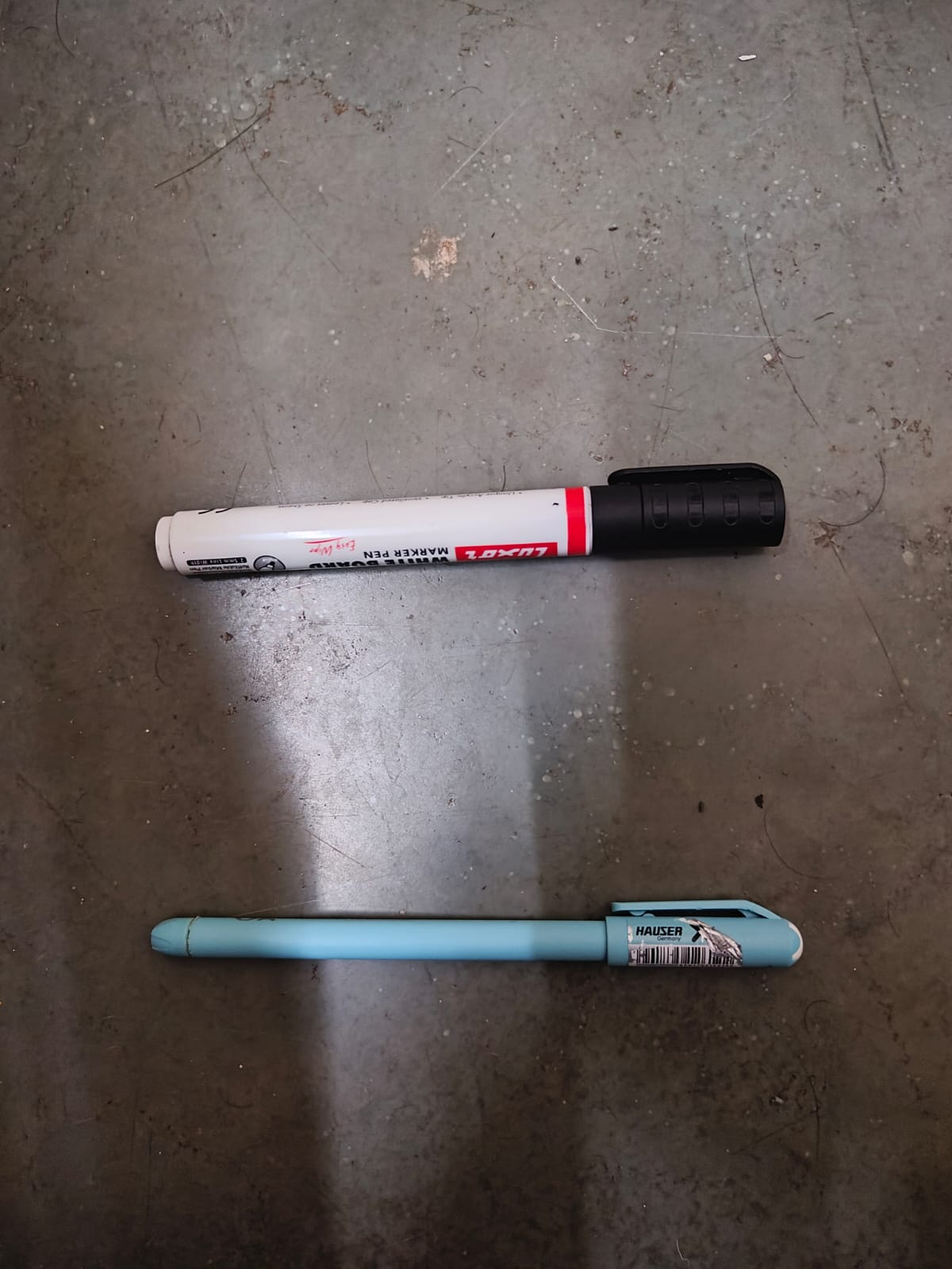case: (109, 449, 797, 591)
pen: (139, 875, 776, 1005)
